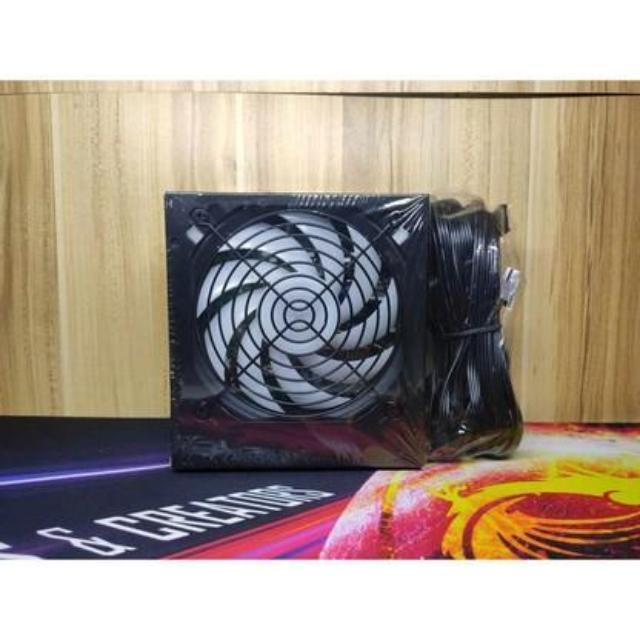PSU: (156, 182, 438, 486)
